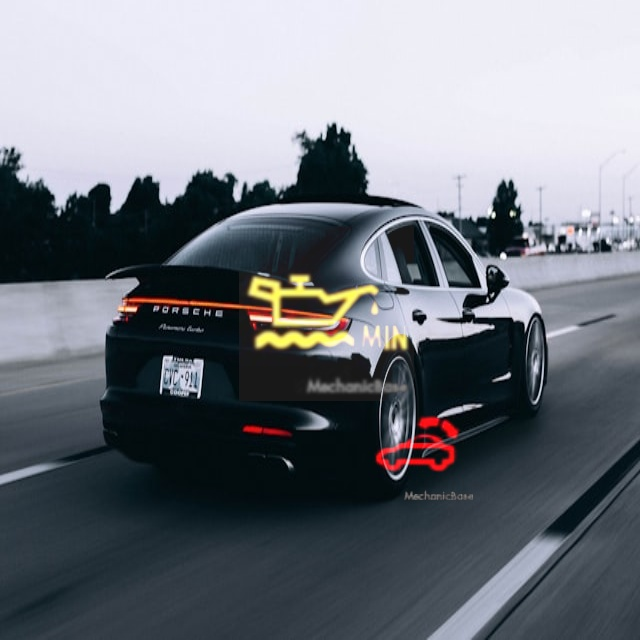symbol: (239, 226, 414, 401), (357, 385, 478, 506)
